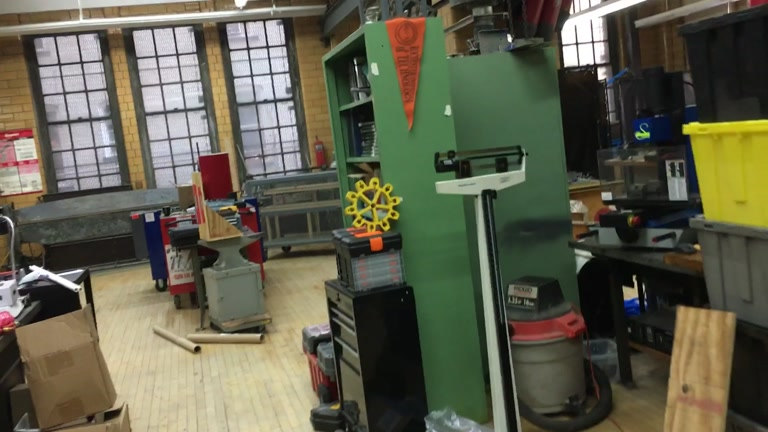gear: (344, 175, 402, 233)
